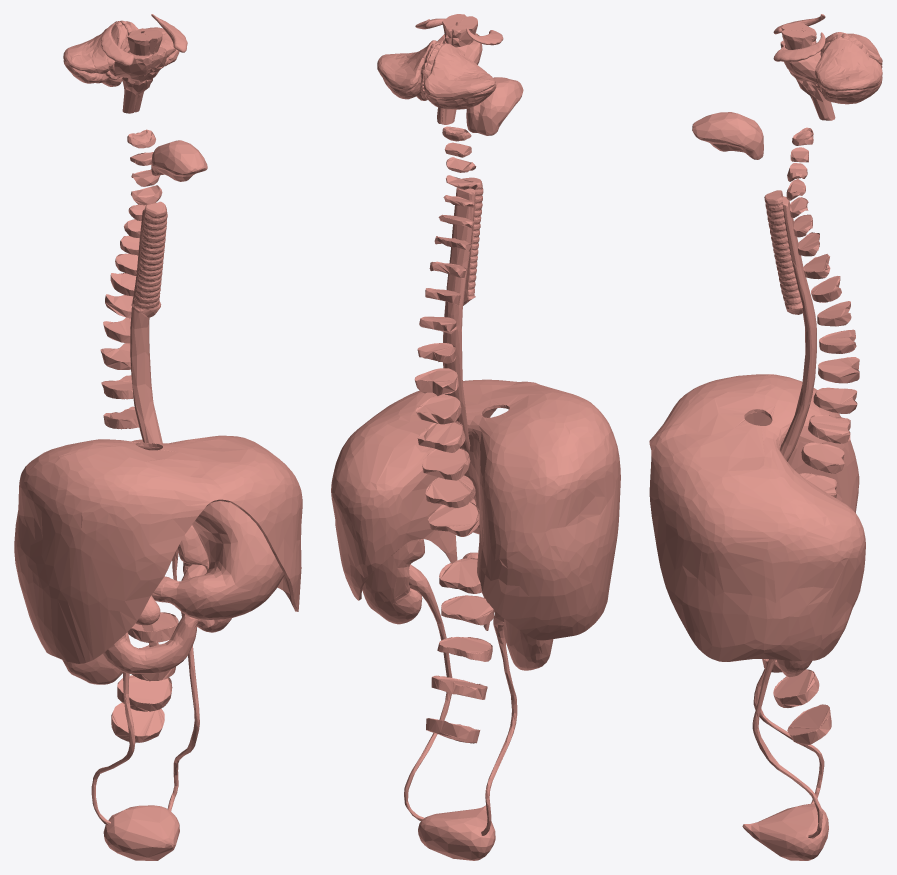
File: organs.glb
The picture shows the model from 3 angles, left to right: view 1: azimuth 30°, elevation 25°; view 2: azimuth 150°, elevation 25°; view 3: azimuth 270°, elevation 25°; orthographic projection.
Visible parts, largest first — view 1: diaphragm, stomach, bladder, duodenum, esophagus, cerebellum, trachea, brainstem, tongue, disc-21, disc-22, l-ureter (+8 smaller); view 2: diaphragm, cerebellum, l-kidney, bladder, esophagus, tongue, l-ureter, brainstem, r-kidney, r-ureter, disc-17, disc-16 (+11 smaller); view 3: diaphragm, cerebellum, bladder, esophagus, tongue, brainstem, trachea, disc-22, disc-21, l-ureter, disc-15, disc-14 (+9 smaller).
Boxes of the visible parts, x1,y1,x2,y2 form: diaphragm: [14, 435, 302, 663]; stomach: [161, 501, 284, 619]; bladder: [103, 805, 179, 860]; duodenum: [103, 576, 214, 674]; esophagus: [130, 210, 162, 443]; cerebellum: [63, 20, 179, 86]; trachea: [131, 201, 167, 317]; brainstem: [114, 28, 167, 113]; tongue: [151, 140, 207, 181]; disc-21: [117, 675, 172, 711]; disc-22: [111, 702, 164, 742]; l-ureter: [167, 564, 206, 811]; diaphragm: [331, 379, 620, 640]; cerebellum: [377, 40, 496, 109]; l-kidney: [362, 539, 424, 624]; bladder: [418, 805, 495, 860]; esophagus: [443, 187, 475, 454]; tongue: [466, 77, 523, 135]; l-ureter: [404, 564, 452, 820]; brainstem: [437, 14, 482, 124]; r-kidney: [503, 619, 553, 670]; r-ureter: [481, 611, 517, 835]; disc-17: [428, 502, 479, 536]; disc-16: [425, 475, 475, 508]; diaphragm: [649, 374, 865, 661]; cerebellum: [815, 32, 882, 104]; bladder: [742, 803, 828, 860]; esophagus: [780, 196, 816, 461]; tongue: [692, 112, 763, 159]; brainstem: [780, 23, 835, 120]; trachea: [764, 190, 802, 314]; disc-22: [787, 704, 831, 745]; disc-21: [773, 669, 819, 707]; l-ureter: [752, 659, 822, 838]; disc-15: [801, 442, 844, 473]; disc-14: [808, 415, 850, 443].
Size of the model in its own units: 0.2431 by 0.7615 by 0.1931.
